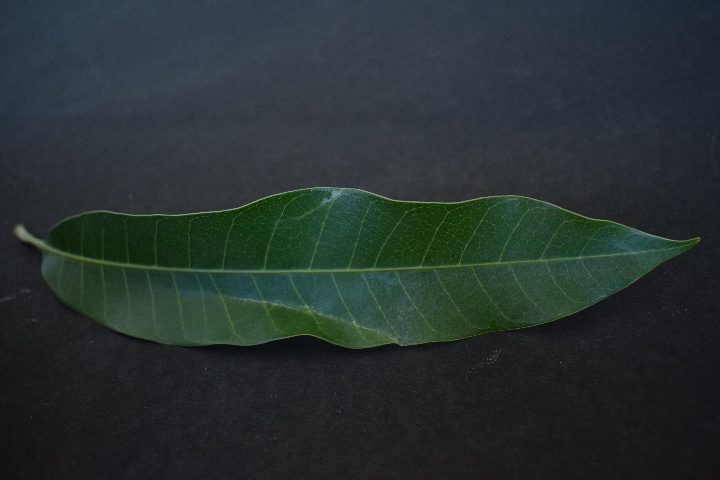healthy: (68, 191, 662, 360)
